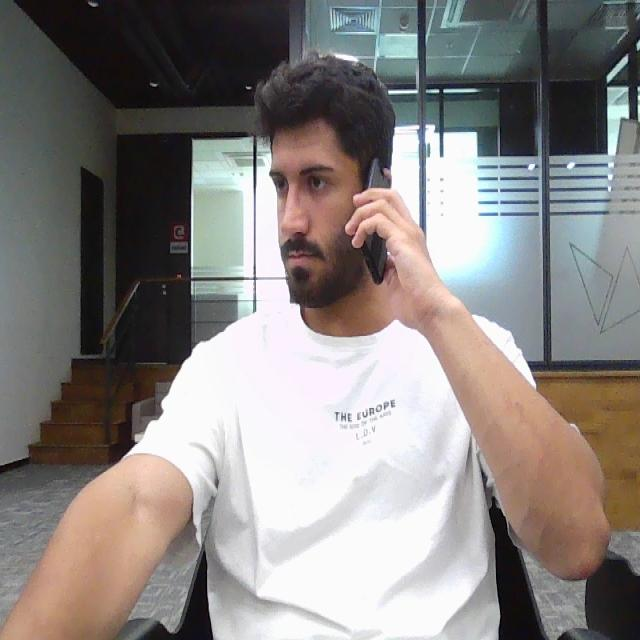phone: (356, 157, 391, 283)
